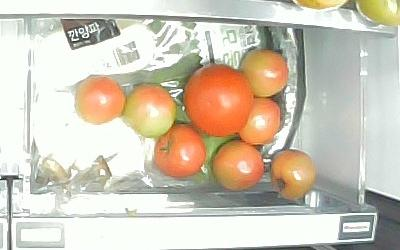tomato: (185, 63, 254, 138), (152, 125, 207, 179), (213, 140, 267, 191), (124, 85, 176, 137), (270, 149, 320, 203), (72, 75, 125, 125), (241, 49, 290, 97), (238, 97, 281, 143)
